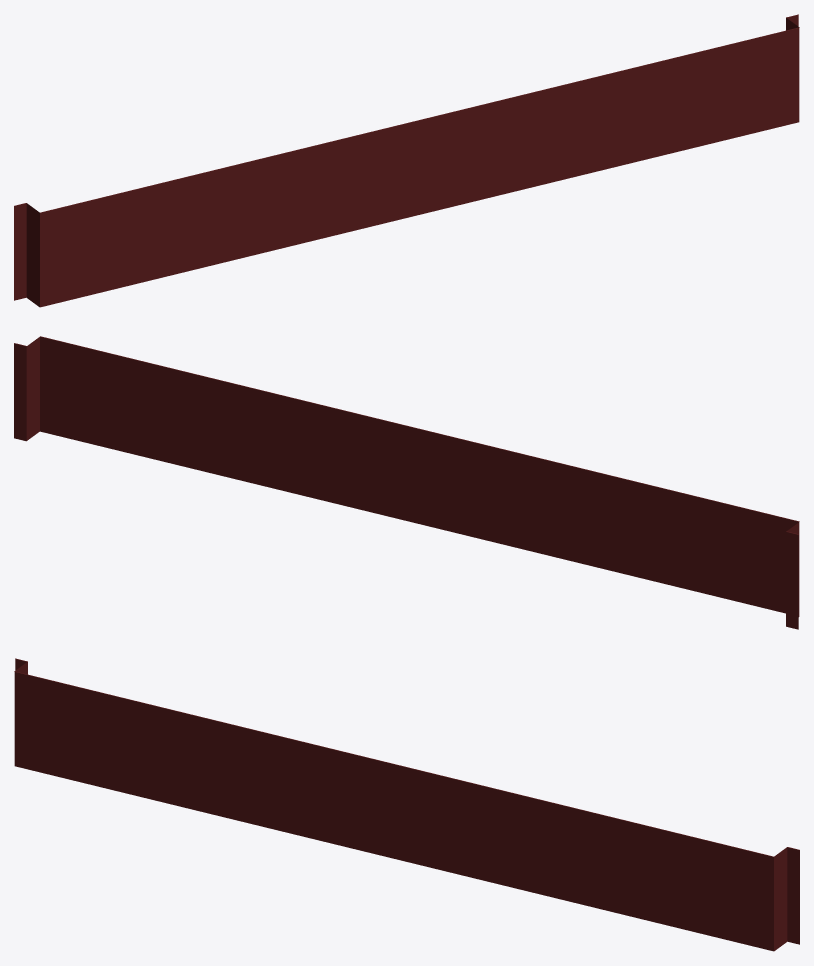
The model's file is ground-floor-back.fbx.
The picture shows the model from 3 angles, top to bottom: view 1: azimuth 30°, elevation 25°; view 2: azimuth 150°, elevation 25°; view 3: azimuth 330°, elevation 25°; orthographic projection.
Visible parts, largest first — view 1: ground-floor-back; view 2: ground-floor-back; view 3: ground-floor-back.
Boxes of the visible parts, x1,y1,x2,y2 form: ground-floor-back: [14, 14, 799, 307]; ground-floor-back: [14, 336, 799, 629]; ground-floor-back: [14, 658, 799, 951].
Size of the model in its own units: 2509 by 290 by 77.27.
